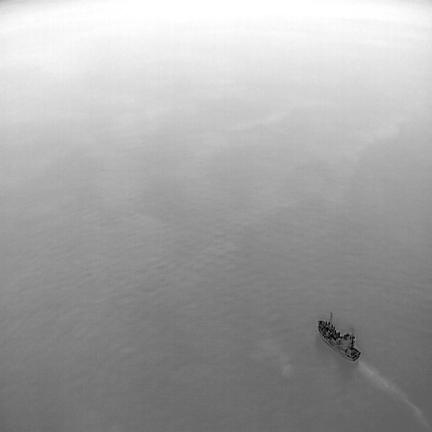flukeprints: (251, 338, 292, 378)
